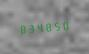eight: (45, 19, 53, 33), (17, 22, 25, 35)
five: (54, 19, 62, 32)
four: (36, 20, 44, 34)
three: (26, 21, 34, 34)
zero: (63, 18, 71, 31)
